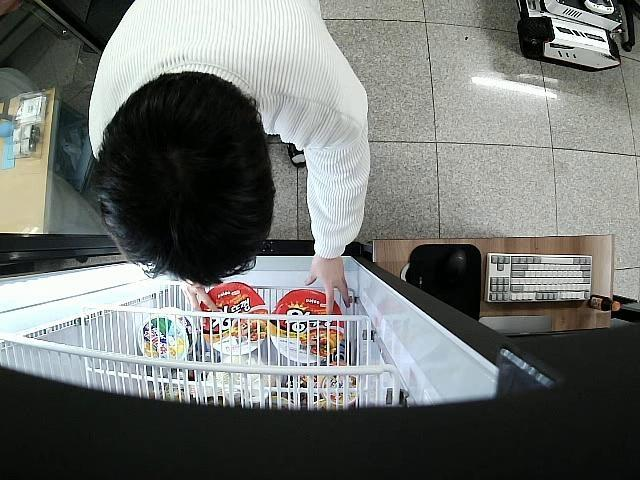10_wangTtukkeong: (271, 291, 346, 362), (202, 282, 266, 353)
